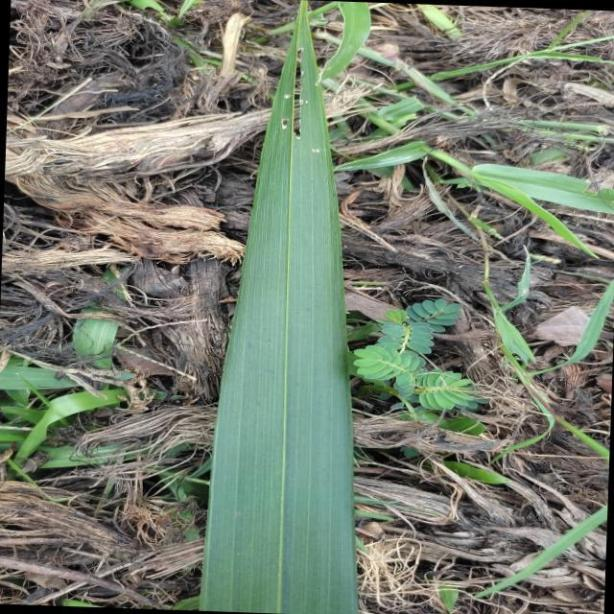Boron: (198, 0, 358, 614)
